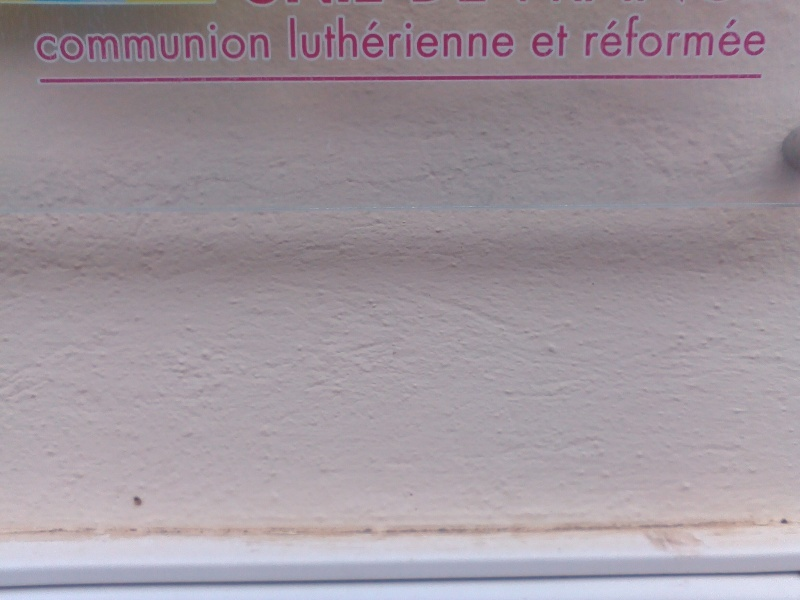text: (289, 15, 304, 62), (305, 15, 320, 62), (321, 15, 336, 62), (337, 15, 352, 62), (353, 15, 368, 62), (369, 15, 384, 62), (385, 15, 400, 62), (401, 15, 416, 62), (417, 15, 432, 62), (433, 15, 448, 62), (449, 15, 464, 62), (465, 15, 480, 62), (481, 15, 496, 62), (497, 15, 512, 62), (753, 15, 769, 58), (593, 15, 608, 58), (609, 15, 624, 58), (625, 15, 640, 58), (641, 15, 656, 58), (657, 15, 672, 58), (673, 15, 688, 58), (689, 15, 704, 58), (705, 15, 720, 58), (721, 15, 736, 58), (737, 15, 752, 58), (49, 22, 64, 64), (65, 22, 80, 64), (81, 22, 96, 64), (97, 22, 112, 64), (113, 22, 128, 64), (129, 22, 144, 64), (145, 22, 160, 64), (161, 22, 176, 64), (177, 22, 192, 64), (193, 22, 208, 64), (209, 22, 224, 64), (225, 22, 240, 64), (241, 22, 256, 64), (257, 22, 272, 64), (545, 22, 560, 59), (36, 22, 48, 64), (531, 22, 544, 59), (584, 15, 592, 58), (561, 22, 570, 59), (286, 15, 288, 62), (513, 15, 515, 62)
